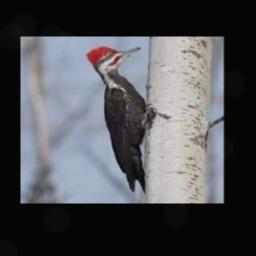Woodpecker: (86, 46, 153, 194)
